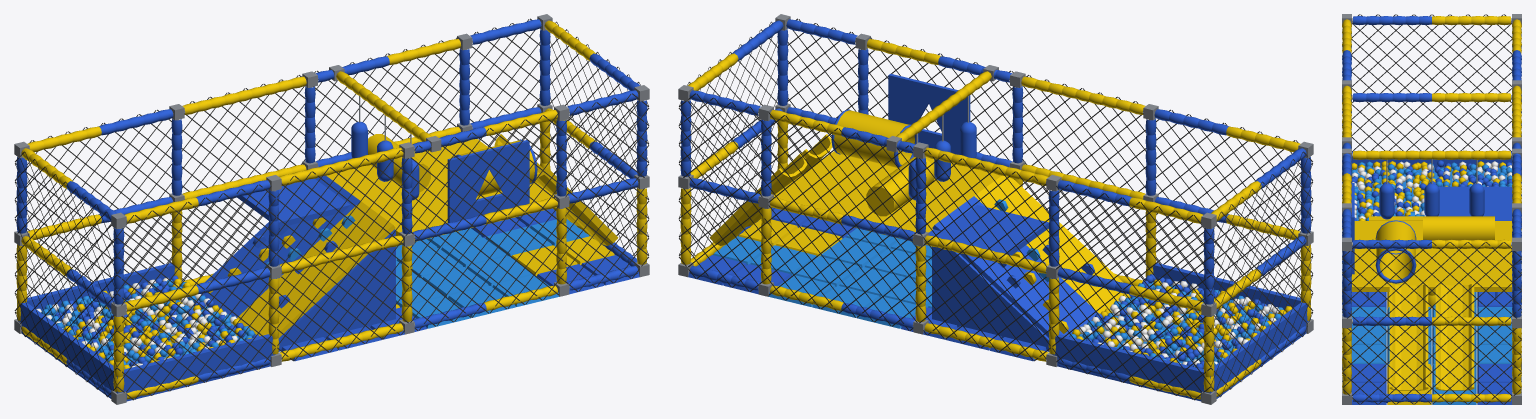
File: mini.glb
The picture shows the model from 3 angles, left to right: view 1: azimuth 30°, elevation 25°; view 2: azimuth 150°, elevation 25°; view 3: azimuth 270°, elevation 25°; orthographic projection. The views are drawn at different scales.
Visible parts, largest first — view 1: isotubo, rede, plataforma, piso, acolchoado, bolinhas, metal, plastico; view 2: isotubo, rede, plataforma, piso, acolchoado, bolinhas, metal, plastico; view 3: isotubo, rede, plataforma, piso, plastico, acolchoado, bolinhas, metal.
Boxes of the visible parts, x1,y1,x2,y2 form: isotubo: [16, 19, 647, 399]; rede: [14, 18, 649, 400]; plataforma: [201, 139, 556, 351]; piso: [281, 208, 639, 361]; acolchoado: [17, 121, 537, 401]; bolinhas: [36, 275, 259, 369]; metal: [14, 14, 649, 404]; plastico: [207, 134, 618, 308]; isotubo: [680, 19, 1311, 399]; rede: [678, 18, 1313, 400]; plataforma: [771, 73, 1123, 351]; piso: [688, 208, 1046, 361]; acolchoado: [831, 109, 1310, 401]; bolinhas: [1069, 274, 1292, 368]; metal: [678, 14, 1313, 404]; plastico: [709, 134, 1094, 333]; isotubo: [1342, 16, 1521, 402]; rede: [1342, 14, 1521, 404]; plataforma: [1351, 183, 1512, 298]; piso: [1342, 292, 1521, 404]; plastico: [1389, 211, 1474, 390]; acolchoado: [1352, 151, 1511, 283]; bolinhas: [1351, 160, 1512, 220]; metal: [1342, 14, 1521, 404].
Bounding box in the file's own units: 0.6 × 0.2 × 0.2.
Materials: 8 (7 with a texture image).
